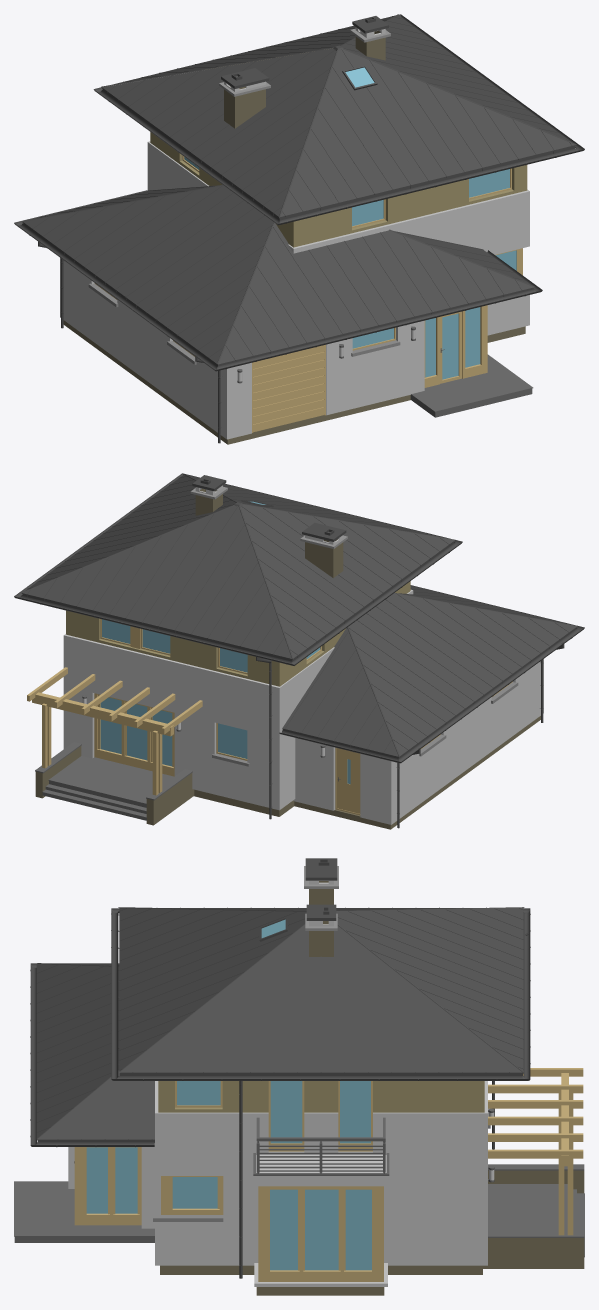
File: casa2.glb
3 views of the same model, one above another, from view 1: azimuth 30°, elevation 25°; view 2: azimuth 150°, elevation 25°; view 3: azimuth 270°, elevation 25° (orthographic). The views are drawn at different scales.
Parts seen in each view (by area): view 1: Bambo_House; view 2: Bambo_House; view 3: Bambo_House.
Boxes of the visible parts, x1,y1,x2,y2 form: Bambo_House: [14, 14, 584, 444]; Bambo_House: [14, 473, 584, 829]; Bambo_House: [14, 858, 584, 1295].
Size of the model in its own units: 13.64 by 9 by 14.54.
